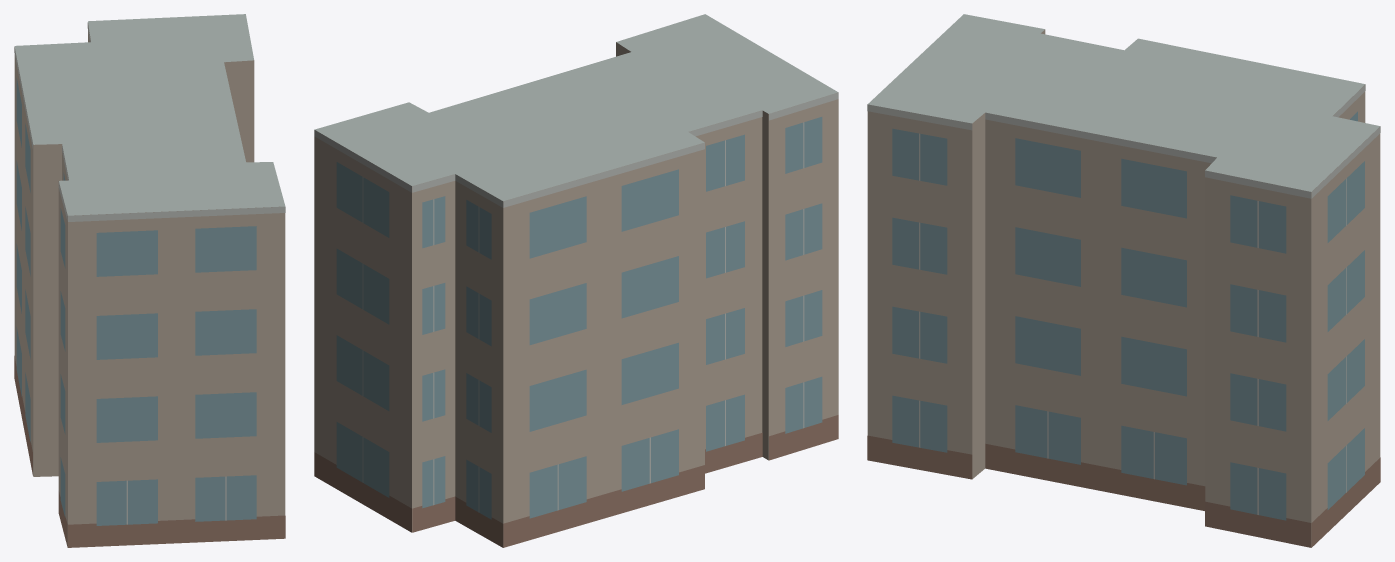
The model's file is survey-upis-32991166.glb.
3 views of the same model, side by side, from view 1: azimuth 30°, elevation 25°; view 2: azimuth 150°, elevation 25°; view 3: azimuth 270°, elevation 25° (orthographic). The views are drawn at different scales.
Parts seen in each view (by area): view 1: survey-upis-32991166.tmp; view 2: survey-upis-32991166.tmp; view 3: survey-upis-32991166.tmp.
Part boxes in pixels (left/top/right/bottom): survey-upis-32991166.tmp: left=14, top=14, right=285, bottom=547; survey-upis-32991166.tmp: left=314, top=14, right=838, bottom=547; survey-upis-32991166.tmp: left=867, top=14, right=1380, bottom=547.
Size of the model in its own units: 13.57 by 12.65 by 16.53.
